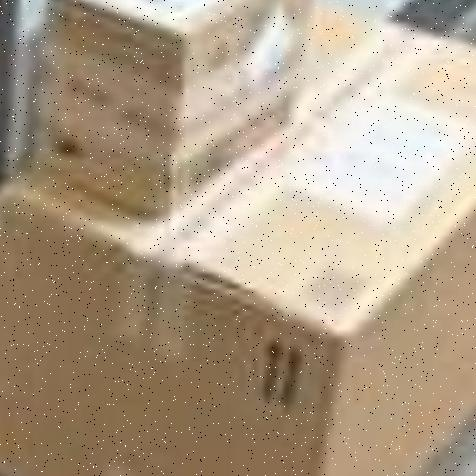Other: (0, 12, 476, 476), (51, 0, 318, 201)
